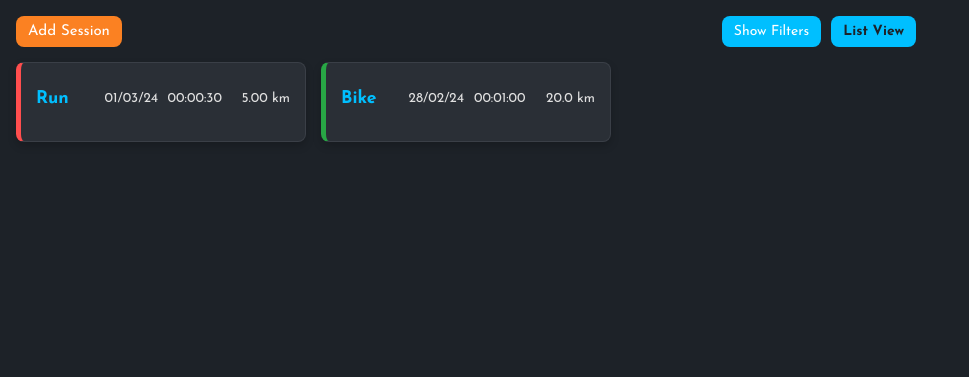
Test: SessionList Component › expands and collapses a session card by clicking the card
Click the heading "Run": point(52, 98) [36,90,69,107]
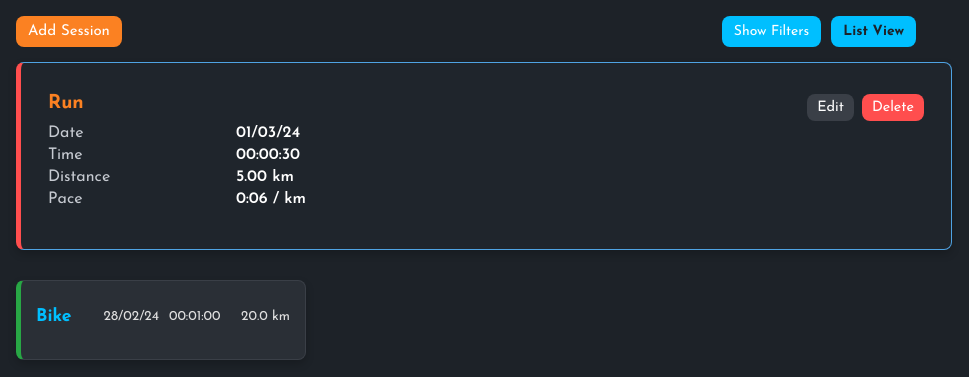
Expected: the element with class "expanded-card" is shown
Click the element with class "expanded-card": point(484, 156) [16,62,952,250]
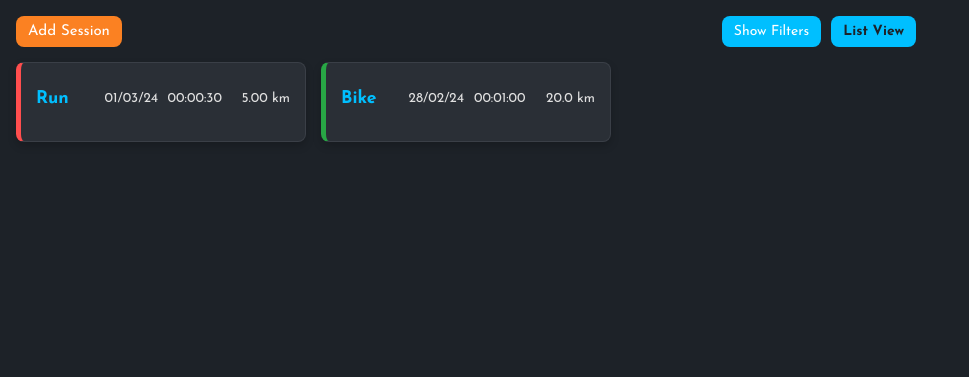
Expected: the element with class "expanded-card" is gone
